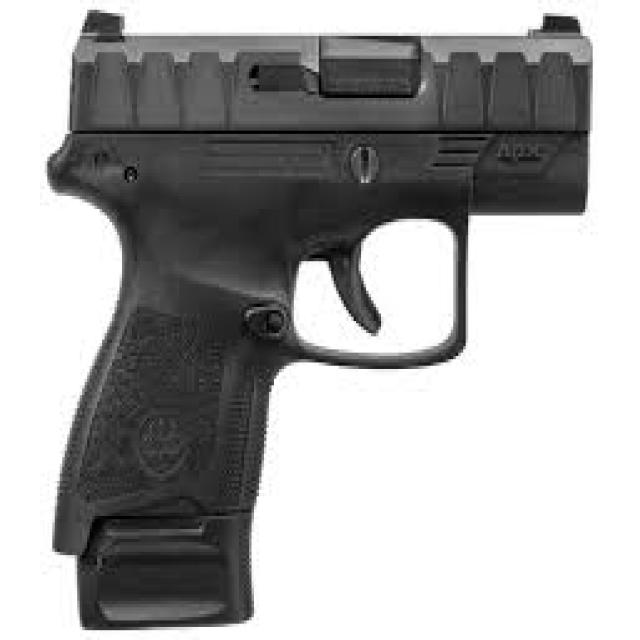pistol: (41, 1, 611, 640)
